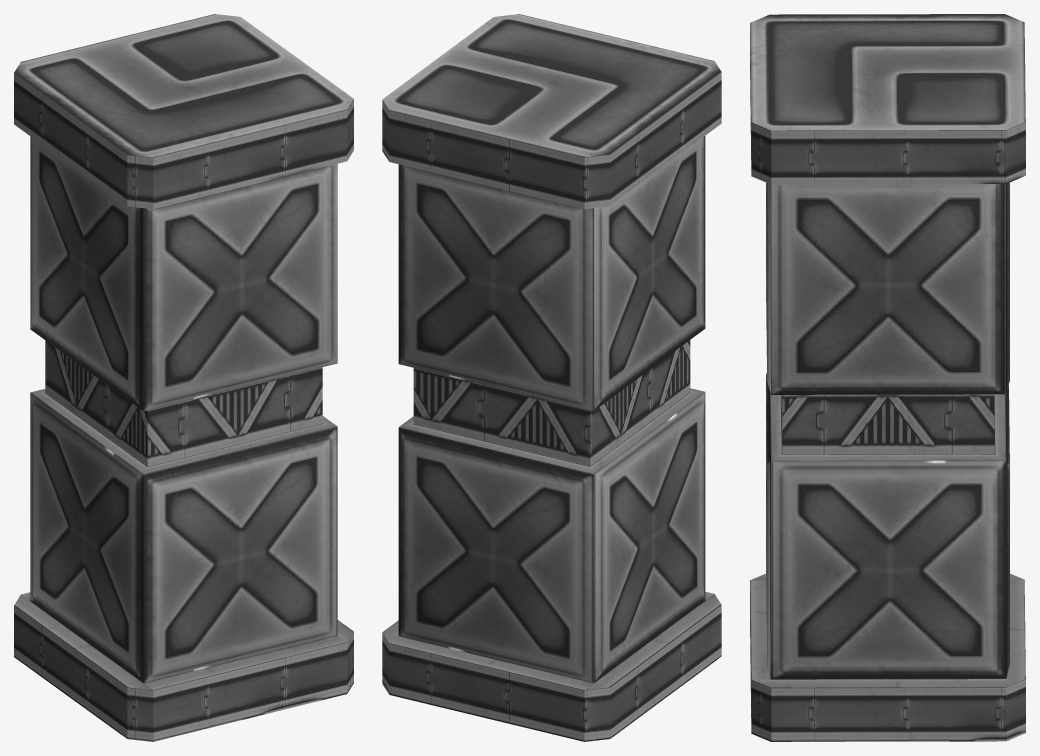
File: ARC1110002.fbx
The picture shows the model from 3 angles, left to right: view 1: azimuth 30°, elevation 25°; view 2: azimuth 150°, elevation 25°; view 3: azimuth 270°, elevation 25°; orthographic projection. The views are drawn at different scales.
Visible parts, largest first — view 1: smARC1110002; view 2: smARC1110002; view 3: smARC1110002.
Part boxes in pixels (left/top/right/bottom): smARC1110002: left=14, top=14, right=353, bottom=741; smARC1110002: left=382, top=14, right=721, bottom=741; smARC1110002: left=750, top=14, right=1025, bottom=741.
Bounding box in the file's own units: 79.56 × 195 × 79.56.
Materials: 1 (1 with a texture image).
